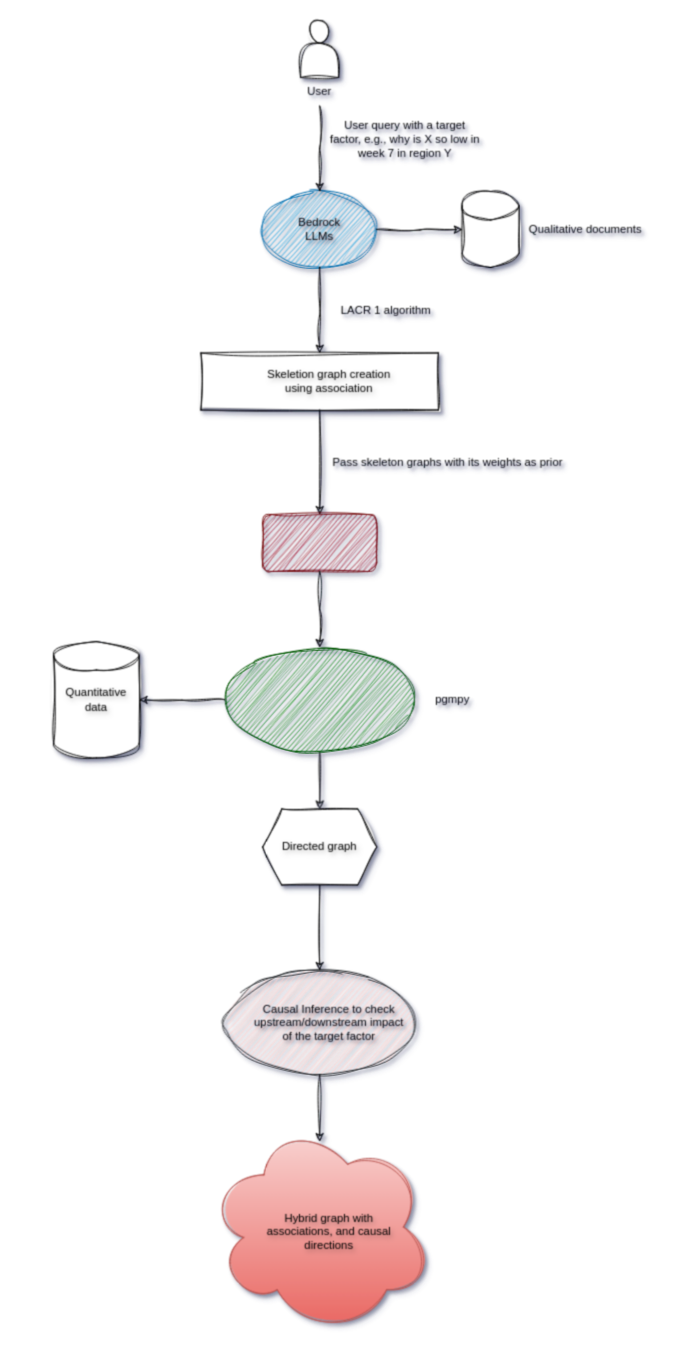
Image size: 689x1360. Some labels were removed from this diagram. The shapes that lost their labels are listed below. From the top down, each one's centre as x and y in pixels, then its label:
At (491,230): "RAG".
At (320,544): "BDeu scoring for hill climb".
At (320,701): "Hill climb algorithm to create a structure graph with directions".
